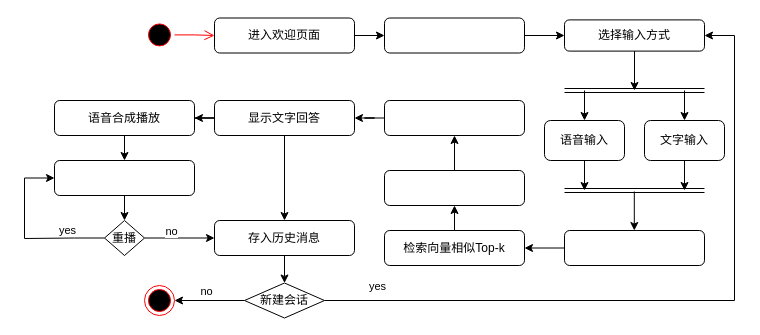
Image size: 760x335. Some labels were removed from this diagram. The shapes that lost their labels are listed below. From the top down, each one's centre as x and y in pixels, then its label:
At (454,35): "进入主页面".
At (454,118): "调用大模型生成回答".
At (124,178): "点击播放按钮".
At (454,188): "拼接重组prompt上下文".
At (634,248): "prompt向量化".
